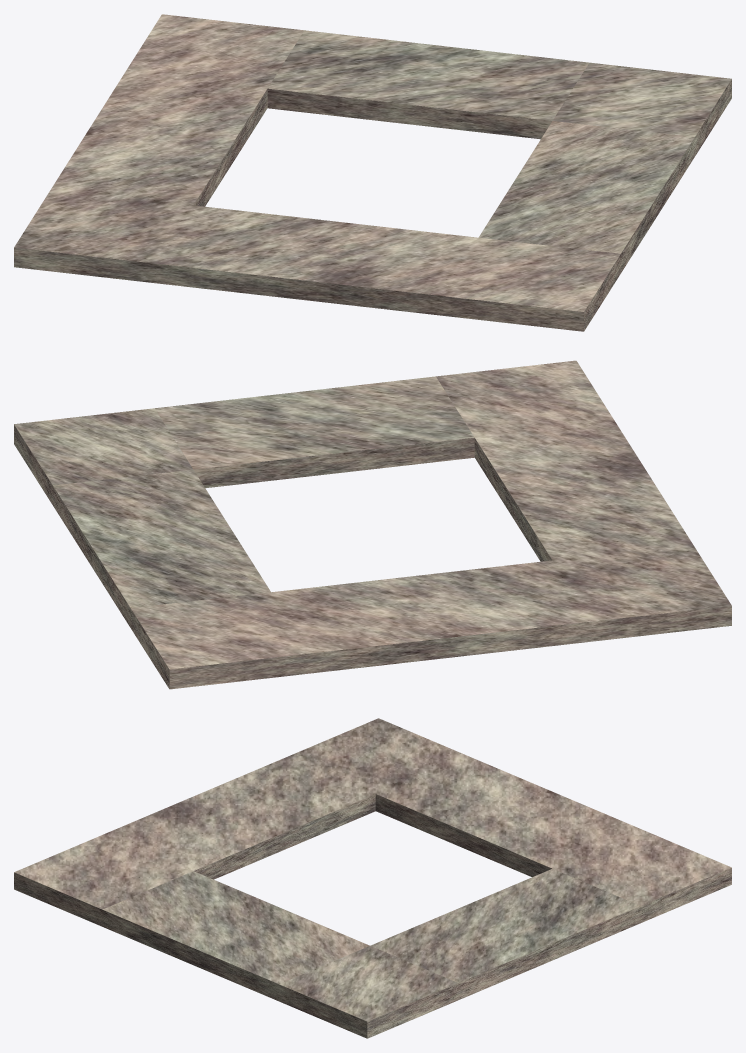
Rendered from diamondfloor.obj.
3 views of the same model, one above another, from view 1: azimuth 30°, elevation 25°; view 2: azimuth 150°, elevation 25°; view 3: azimuth 270°, elevation 25° (orthographic). The views are drawn at different scales.
Parts seen in each view (by area): view 1: Cube; view 2: Cube; view 3: Cube.
Boxes of the visible parts, x1,y1,x2,y2 form: Cube: (14,14,731,331); Cube: (14,360,731,689); Cube: (14,718,731,1038).
Bounding box in the file's own units: 83.75 × 2.21 × 83.75.
1 material, 1 textured.
